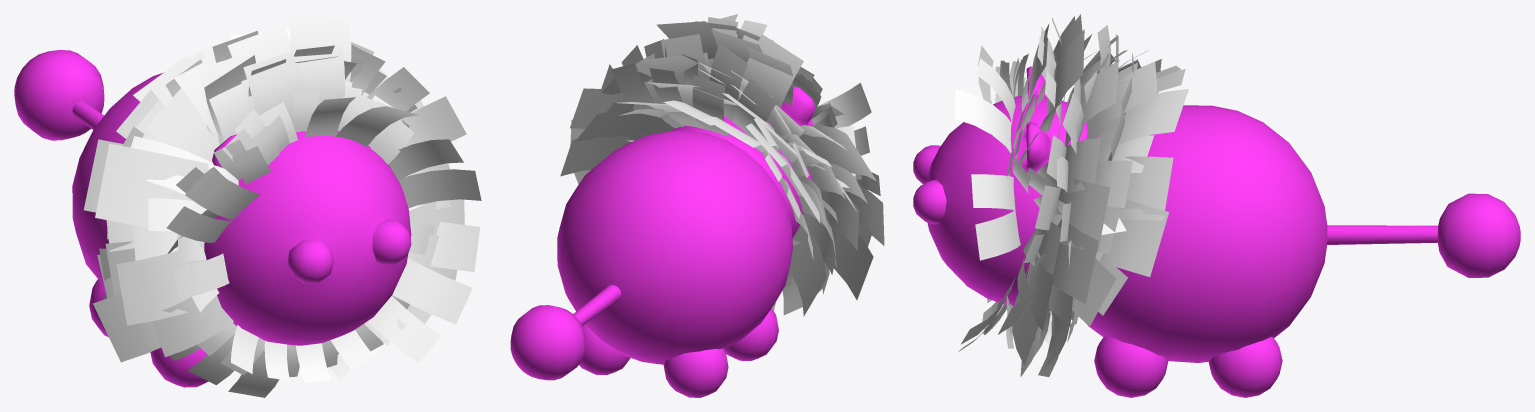
Rendered from lion_low_002.fbx.
The picture shows the model from 3 angles, left to right: view 1: azimuth 30°, elevation 25°; view 2: azimuth 150°, elevation 25°; view 3: azimuth 270°, elevation 25°; orthographic projection. The views are drawn at different scales.
Parts seen in each view (by area): view 1: fur, Lion_low, lion_feet_low; view 2: Lion_low, fur, lion_feet_low; view 3: Lion_low, fur, lion_feet_low.
Boxes of the visible parts, x1,y1,x2,y2 form: fur: (83,14,481,397); Lion_low: (14,50,411,345); lion_feet_low: (89,279,208,387); Lion_low: (510,86,815,380); fur: (560,14,884,316); lion_feet_low: (579,308,778,397); Lion_low: (913,66,1520,362); fur: (954,14,1188,377); lion_feet_low: (1094,336,1282,397).
Size of the model in its own units: 117 by 113 by 180.
